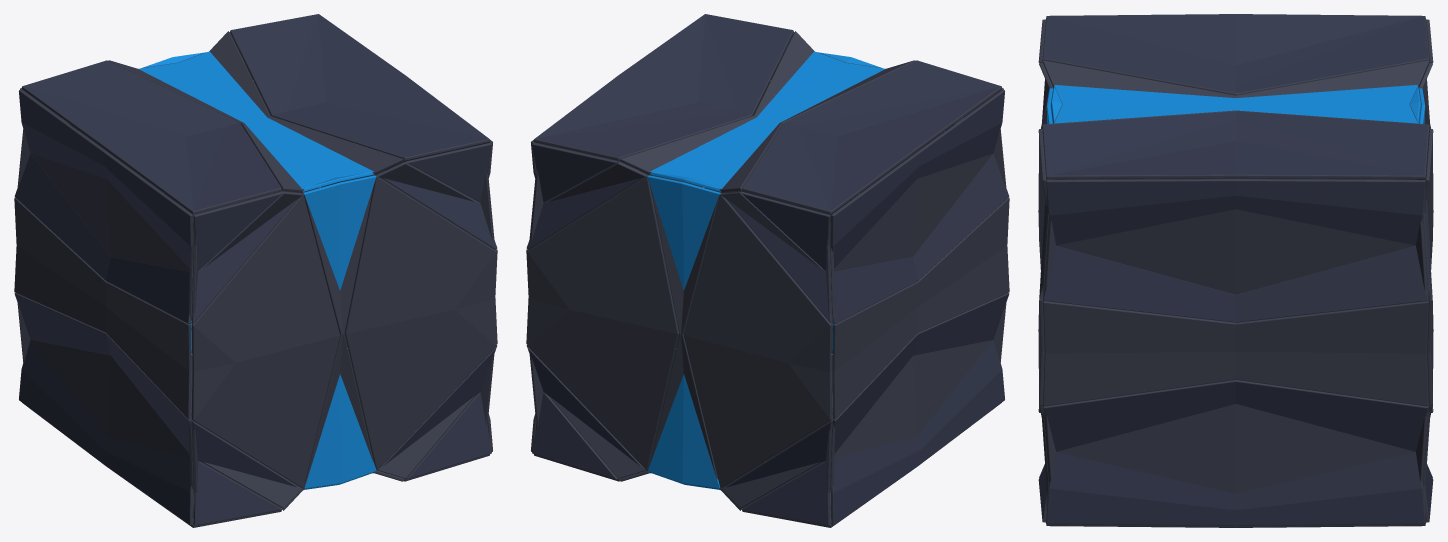
Rendered from companionCube.fbx.
3 views of the same model, side by side, from view 1: azimuth 30°, elevation 25°; view 2: azimuth 150°, elevation 25°; view 3: azimuth 270°, elevation 25° (orthographic). The views are drawn at different scales.
Visible parts, largest first — view 1: Cube.001; view 2: Cube.001; view 3: Cube.001.
Part boxes in pixels (<box>): Cube.001: <box>14,14,497,527</box>; Cube.001: <box>526,14,1009,527</box>; Cube.001: <box>1038,14,1433,527</box>.
Size of the model in its own units: 203 by 203 by 203.
